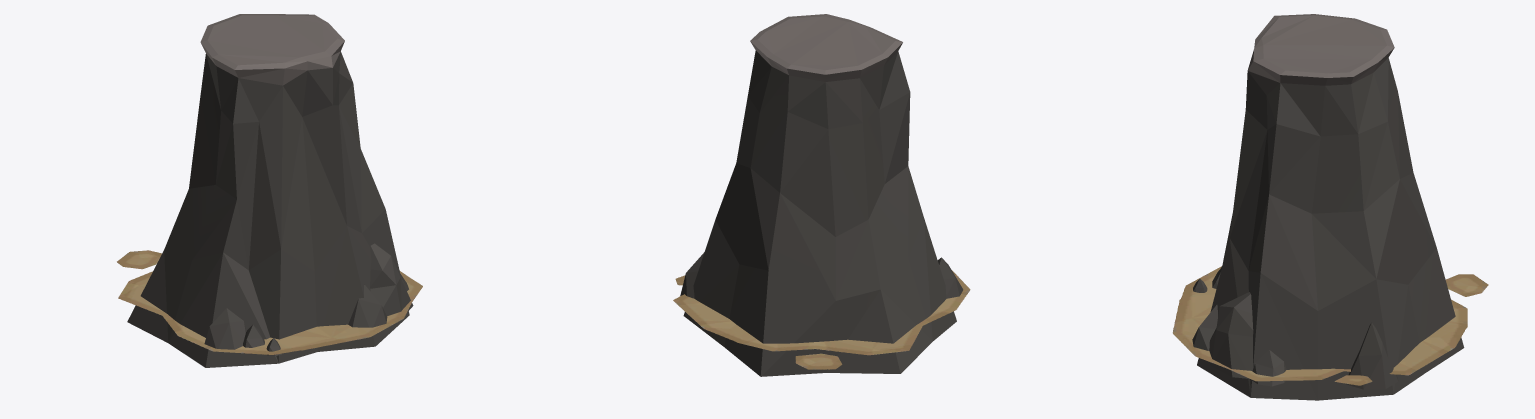
File: cliff.fbx
3 views of the same model, side by side, from view 1: azimuth 30°, elevation 25°; view 2: azimuth 150°, elevation 25°; view 3: azimuth 270°, elevation 25° (orthographic). The views are drawn at different scales.
Parts seen in each view (by area): view 1: cliff, groundDecal; view 2: cliff, groundDecal; view 3: cliff, groundDecal.
Part boxes in pixels (x1,y1,x2,y2): cliff: (127,14,413,367); groundDecal: (117,250,422,354); cliff: (680,14,963,376); groundDecal: (673,270,970,369); cliff: (1192,14,1464,400); groundDecal: (1172,266,1488,385).
Bounding box in the file's own units: 4 × 3.31 × 4.
